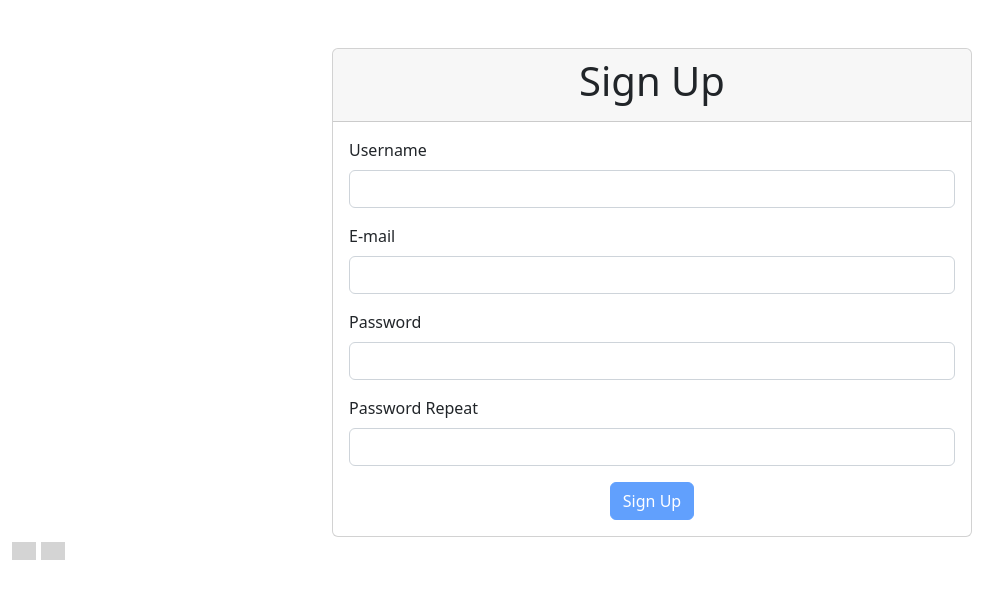
it: SignUpPage › internationalization › sends accept language having en to backend for sign up request
The image size is (989, 602).
Type "user1" into the field labelled "Username" at (652,189), box 349,170 -> 955,208
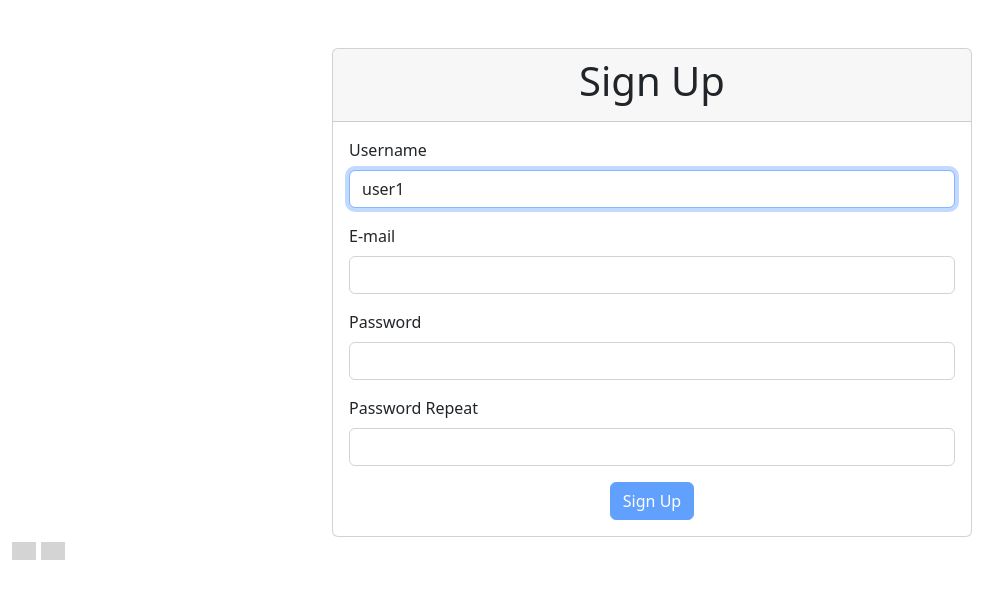
Type "user1@mail.com" into the field labelled "E-mail" at (652,275), box 349,256 -> 955,294
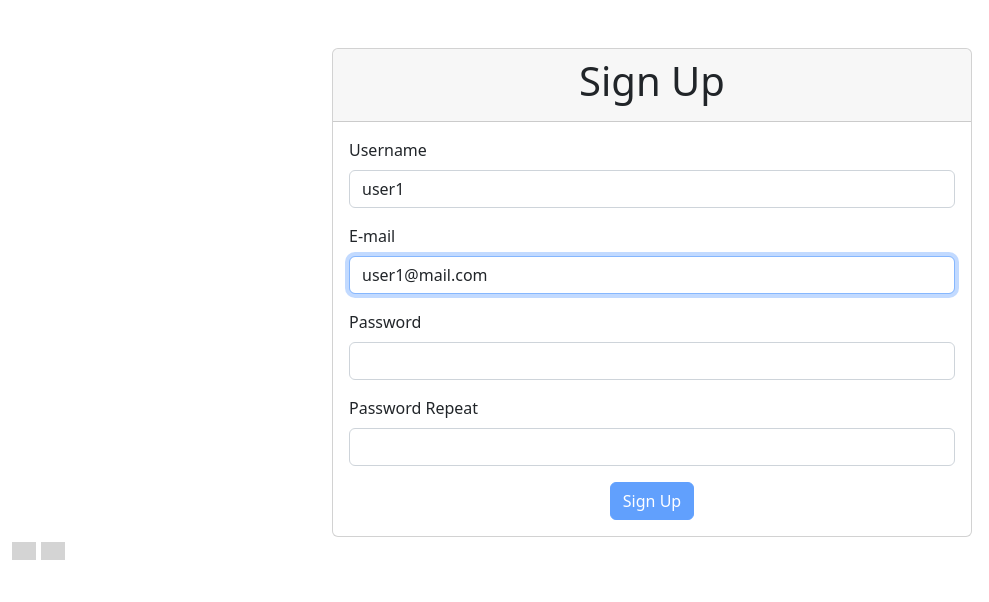
Type "P4ssword" into the password field labelled "Password" at (652,361), box 349,342 -> 955,380
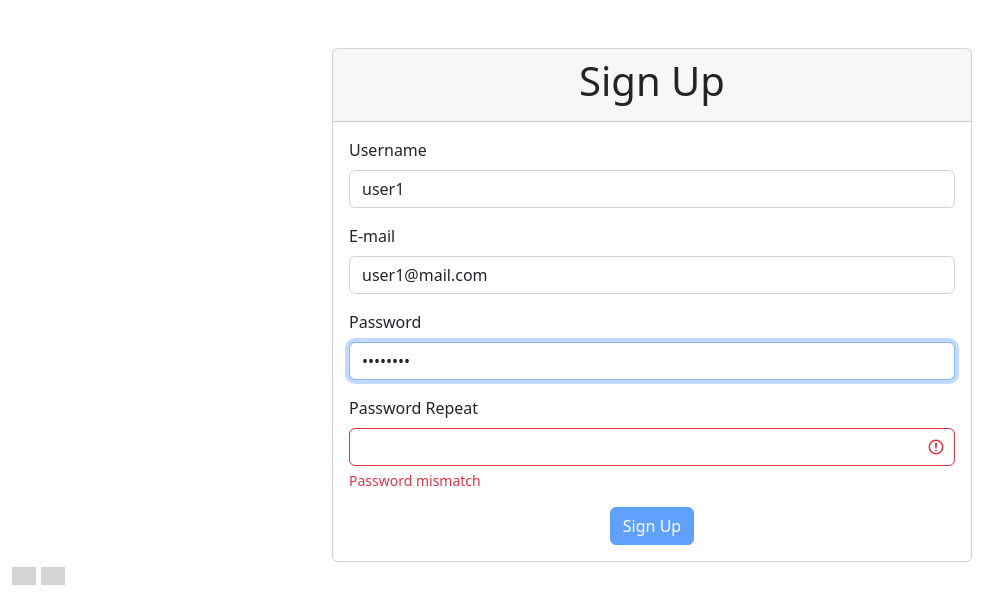
Type "P4ssword" into the password field labelled "Password Repeat" at (652,447), box 349,428 -> 955,466
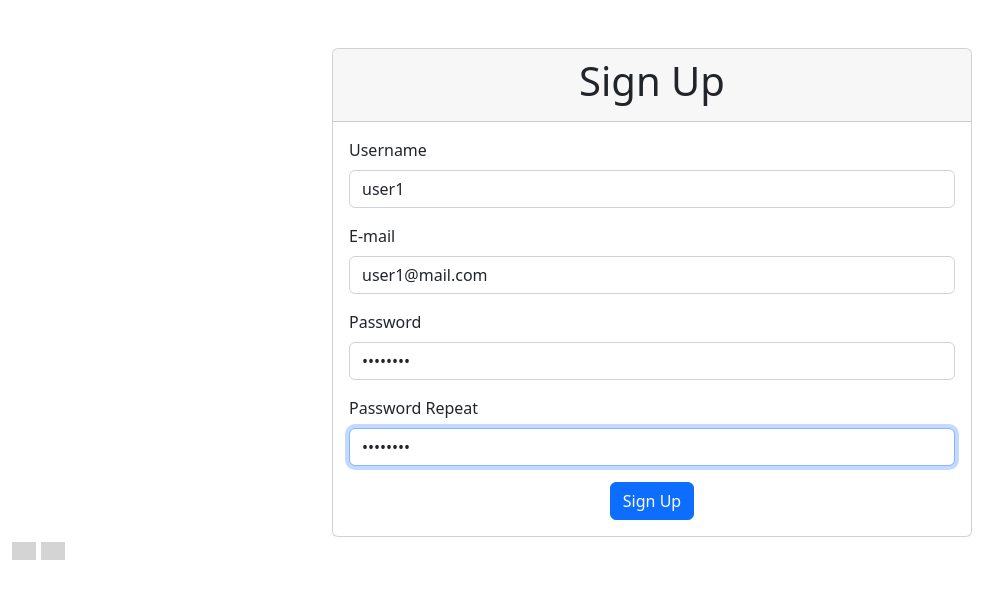
Click the button "Sign Up" at (652,501), box 610,482 -> 694,520
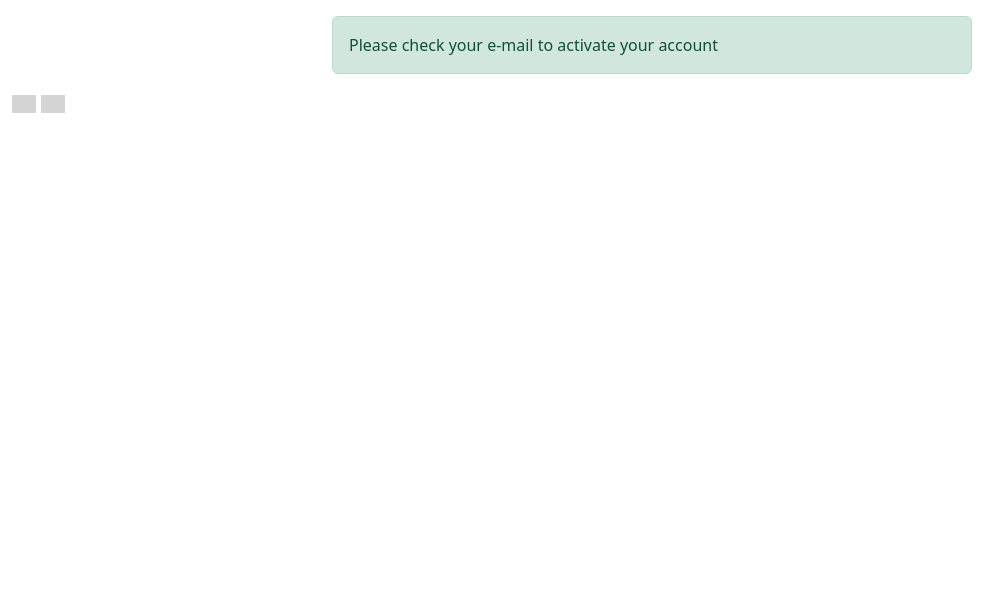
Check: the text "Please check your e-mail to activate your account" is shown, box 332,16 -> 972,74
